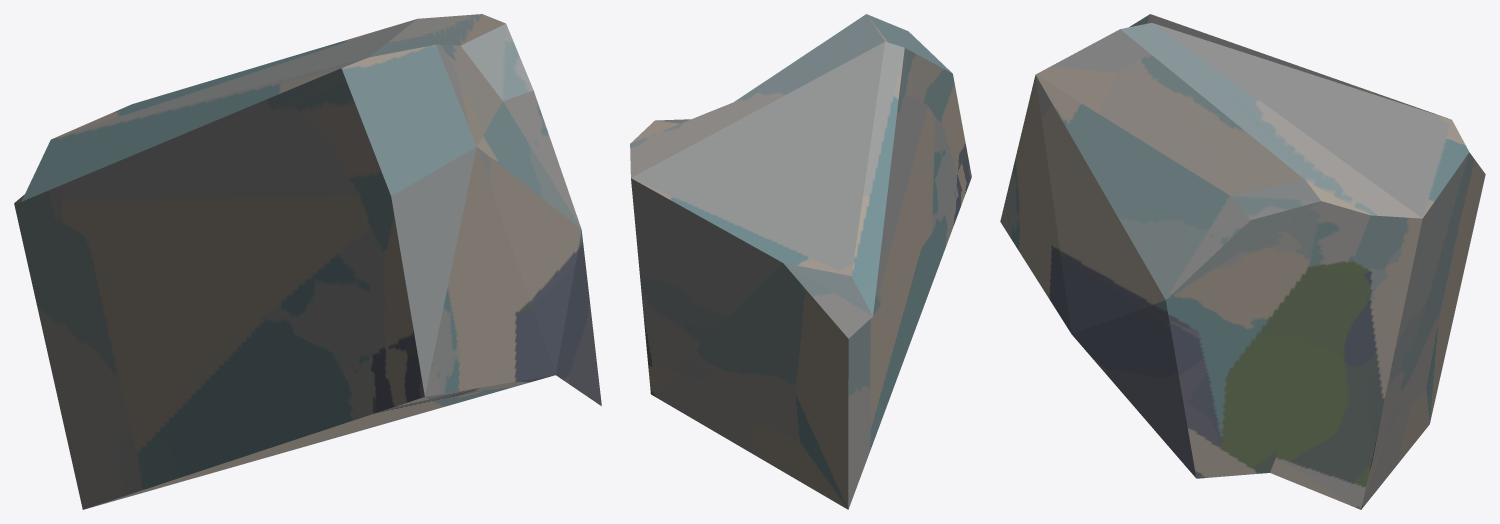
File: T_ROCK02.fbx
The picture shows the model from 3 angles, left to right: view 1: azimuth 30°, elevation 25°; view 2: azimuth 150°, elevation 25°; view 3: azimuth 270°, elevation 25°; orthographic projection. The views are drawn at different scales.
Parts seen in each view (by area): view 1: T_ROCK02.001; view 2: T_ROCK02.001; view 3: T_ROCK02.001.
Boxes of the visible parts, x1=… form: T_ROCK02.001: x1=14, y1=14, x2=601, y2=509; T_ROCK02.001: x1=630, y1=14, x2=971, y2=509; T_ROCK02.001: x1=1000, y1=14, x2=1485, y2=509.
Size of the model in its own units: 235 by 290 by 277.
Materials: 1 (1 with a texture image).
